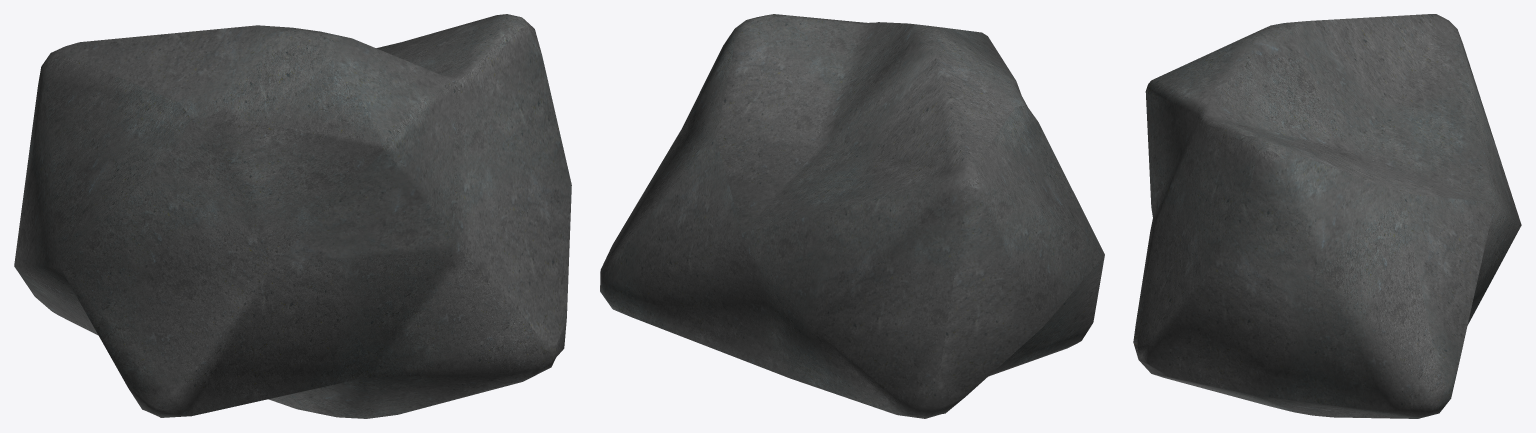
Rendered from rock.009.obj.
The picture shows the model from 3 angles, left to right: view 1: azimuth 30°, elevation 25°; view 2: azimuth 150°, elevation 25°; view 3: azimuth 270°, elevation 25°; orthographic projection. The views are drawn at different scales.
Size of the model in its own units: 0.7795 by 0.5918 by 0.5958.
1 material, 1 textured.
